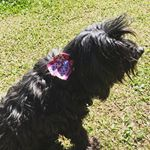puppy: (1, 10, 146, 149)
